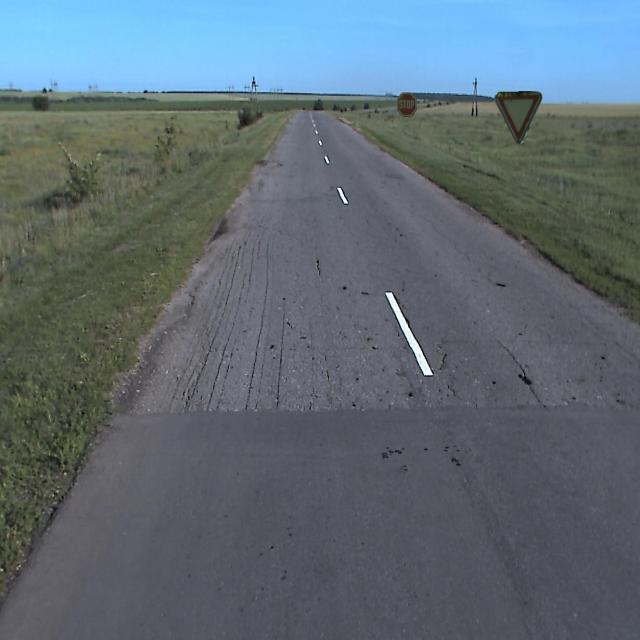road: (0, 109, 639, 639)
